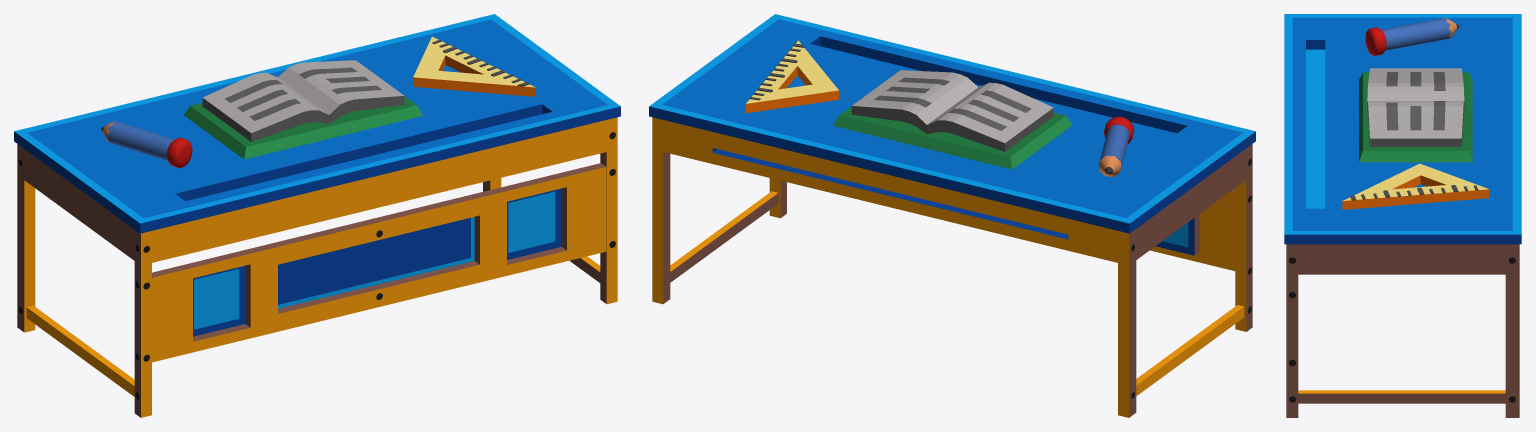
The model's file is Techer Table LEVEL-3-3.fbx.
3 views of the same model, side by side, from view 1: azimuth 30°, elevation 25°; view 2: azimuth 150°, elevation 25°; view 3: azimuth 270°, elevation 25° (orthographic). The views are drawn at different scales.
Parts seen in each view (by area): view 1: Techer Table LEVEL-3-3; view 2: Techer Table LEVEL-3-3; view 3: Techer Table LEVEL-3-3.
Part boxes in pixels (x1,y1,x2,y2): Techer Table LEVEL-3-3: (14, 14, 620, 417); Techer Table LEVEL-3-3: (649, 14, 1255, 417); Techer Table LEVEL-3-3: (1284, 14, 1521, 417).
Bounding box in the file's own units: 13.99 × 6.23 × 6.36.
